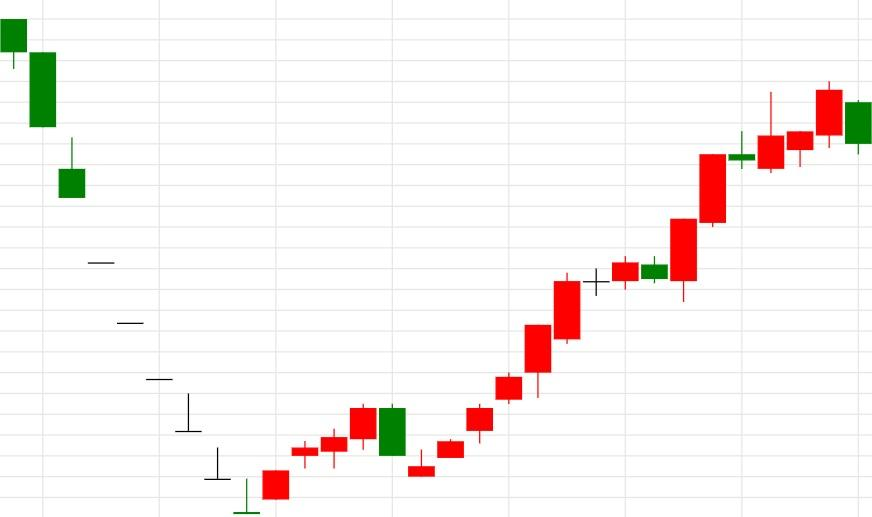bearish_engulfing_fall: (232, 403, 406, 515)
three_white_soldiers_rise: (348, 403, 494, 478)
